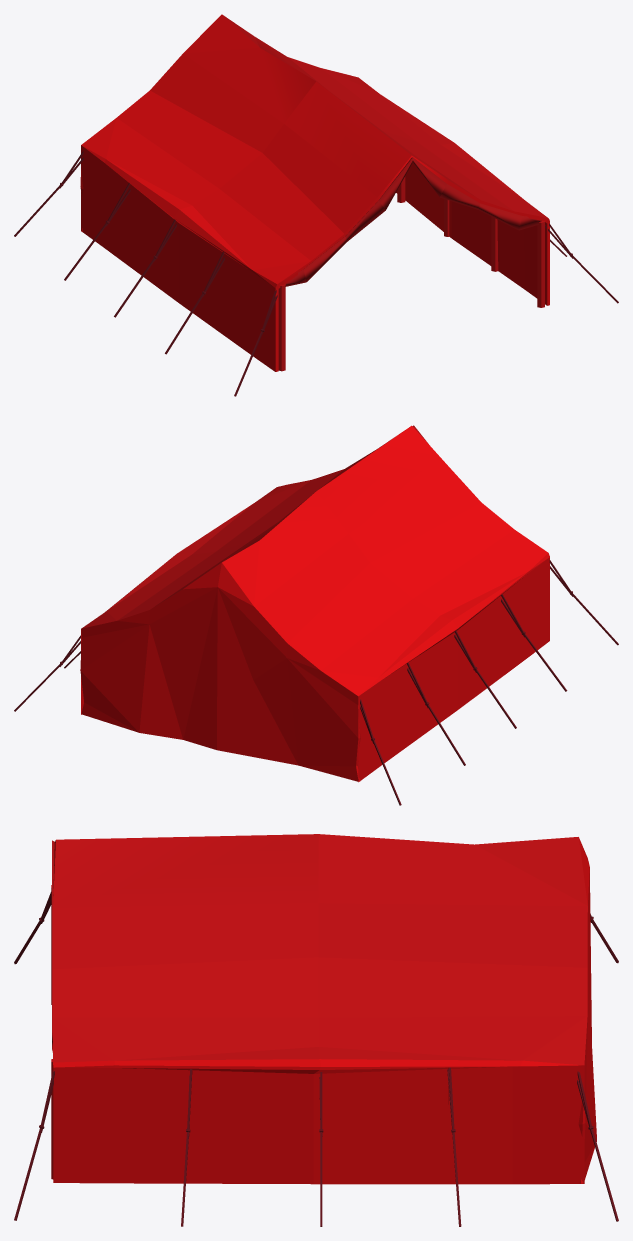
File: Tent 1.fbx
3 views of the same model, one above another, from view 1: azimuth 30°, elevation 25°; view 2: azimuth 150°, elevation 25°; view 3: azimuth 270°, elevation 25° (orthographic). The views are drawn at different scales.
Parts seen in each view (by area): view 1: Tent; view 2: Tent; view 3: Tent.
Boxes of the visible parts, x1,y1,x2,y2 form: Tent: [14, 14, 618, 396]; Tent: [14, 425, 618, 805]; Tent: [14, 834, 618, 1226].
Bounding box in the file's own units: 570 × 255 × 539.
